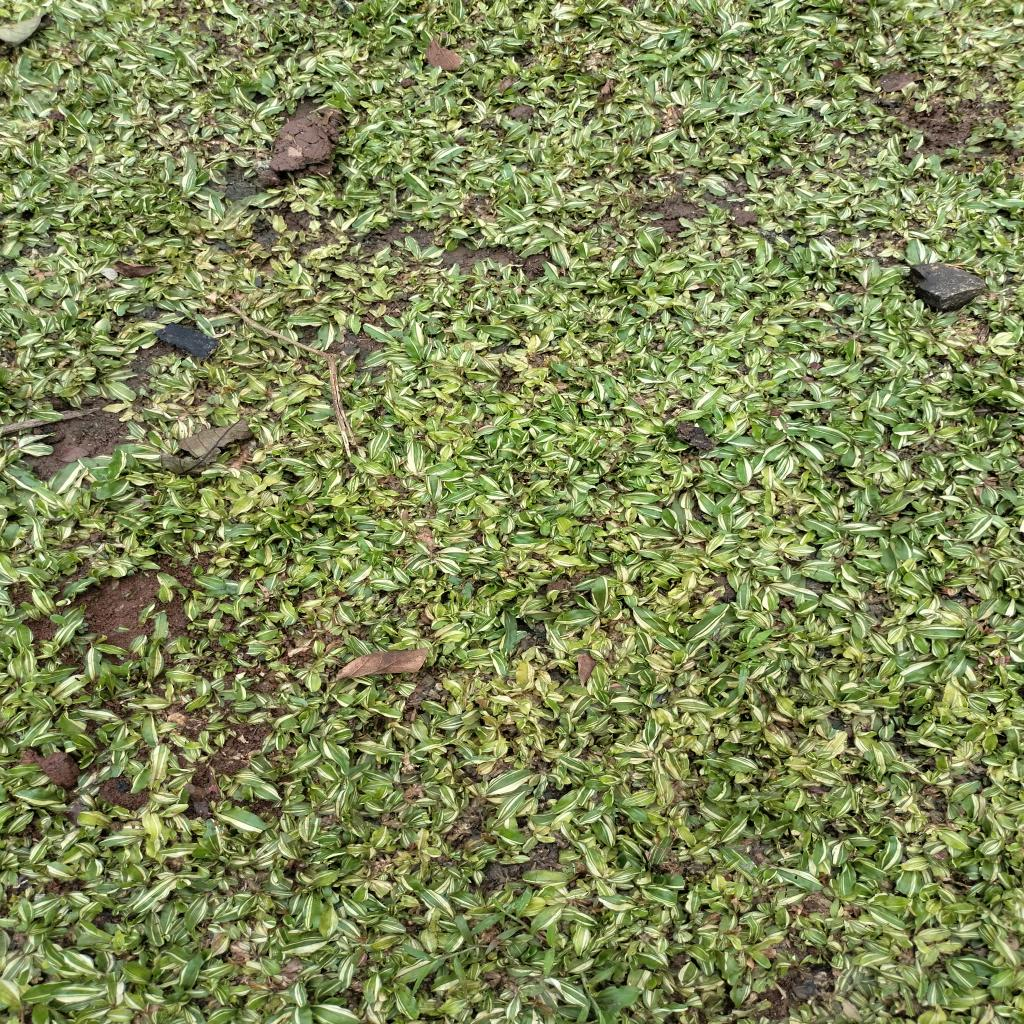bayi: (130, 661, 140, 671), (116, 653, 126, 661), (499, 360, 507, 368)
rambat atas: (398, 942, 488, 992), (713, 627, 768, 697), (488, 894, 546, 940), (626, 46, 703, 69), (579, 970, 608, 1024), (420, 76, 462, 104)
tunggang tengah: (448, 574, 477, 600)
